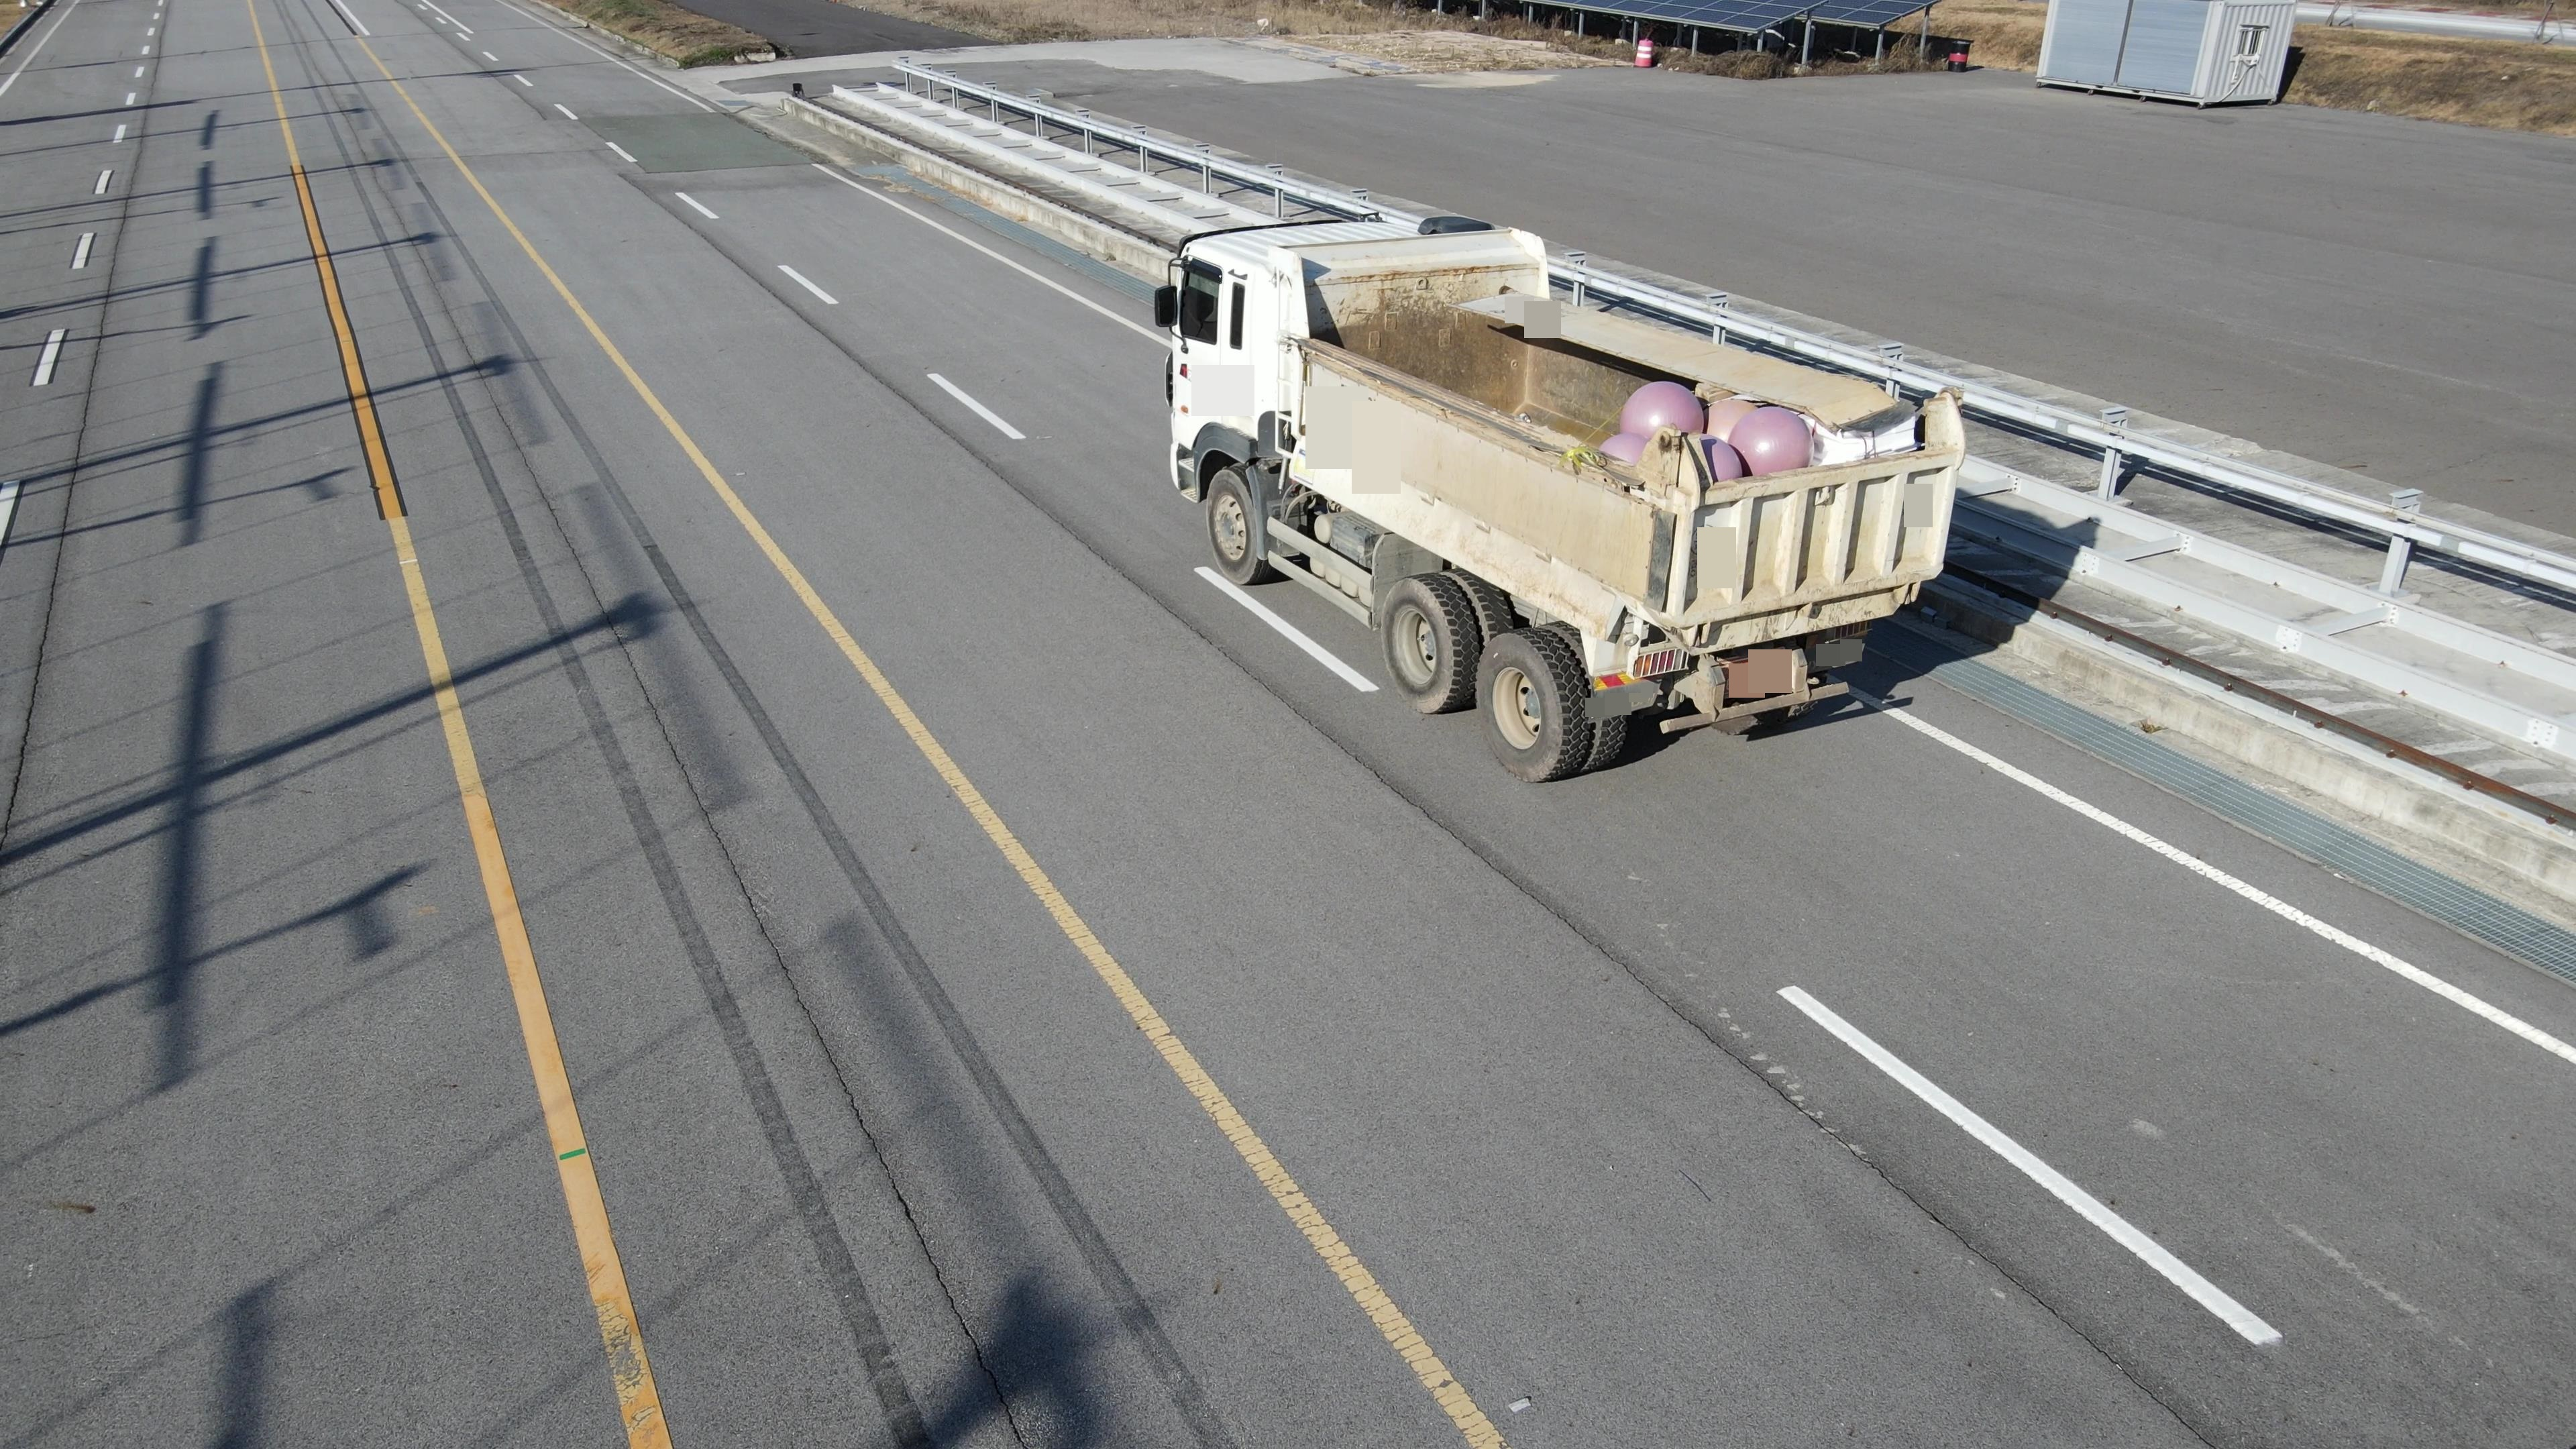불법차량: (1154, 212, 1966, 782)
